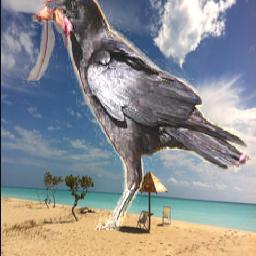Crow: (21, 0, 251, 230)
